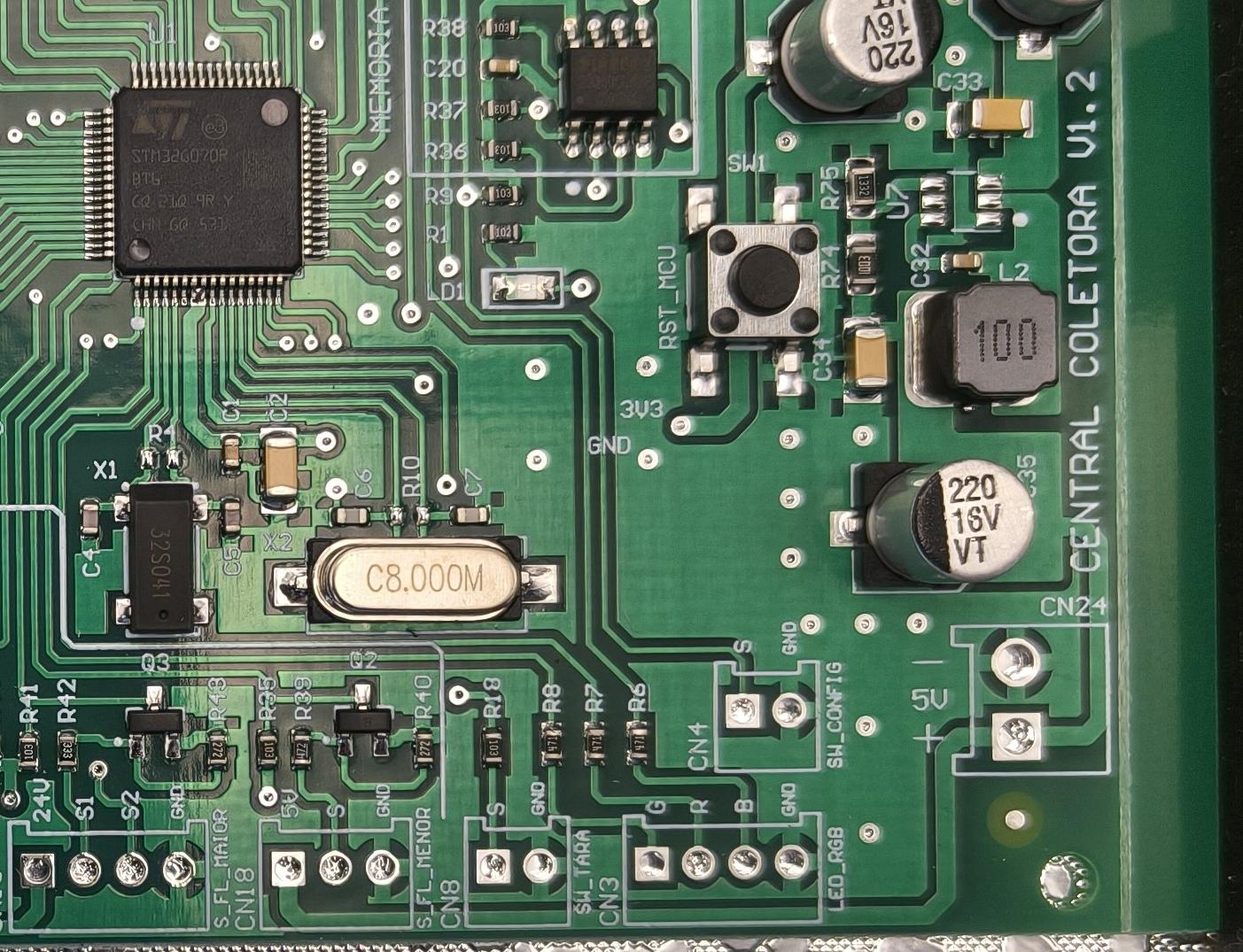C+: (844, 313, 891, 410), (947, 91, 1034, 143), (258, 421, 301, 514), (216, 431, 244, 478), (478, 51, 520, 81), (449, 500, 489, 529), (945, 246, 982, 273), (332, 501, 369, 526), (78, 496, 99, 535), (223, 492, 242, 535)
R+: (840, 225, 882, 301), (842, 158, 872, 217), (249, 724, 283, 776), (47, 723, 82, 768), (412, 732, 443, 776), (623, 718, 651, 766), (537, 720, 564, 764), (289, 729, 317, 771), (482, 219, 521, 247), (477, 731, 503, 772), (485, 182, 522, 210), (479, 135, 516, 163), (13, 727, 38, 768), (584, 718, 606, 764), (205, 729, 231, 767), (483, 94, 517, 121), (485, 16, 520, 42)
R/CFaltante: (137, 443, 184, 477), (387, 503, 427, 529)
U+: (554, 4, 664, 164)
UFaltante: (912, 161, 1012, 236)
